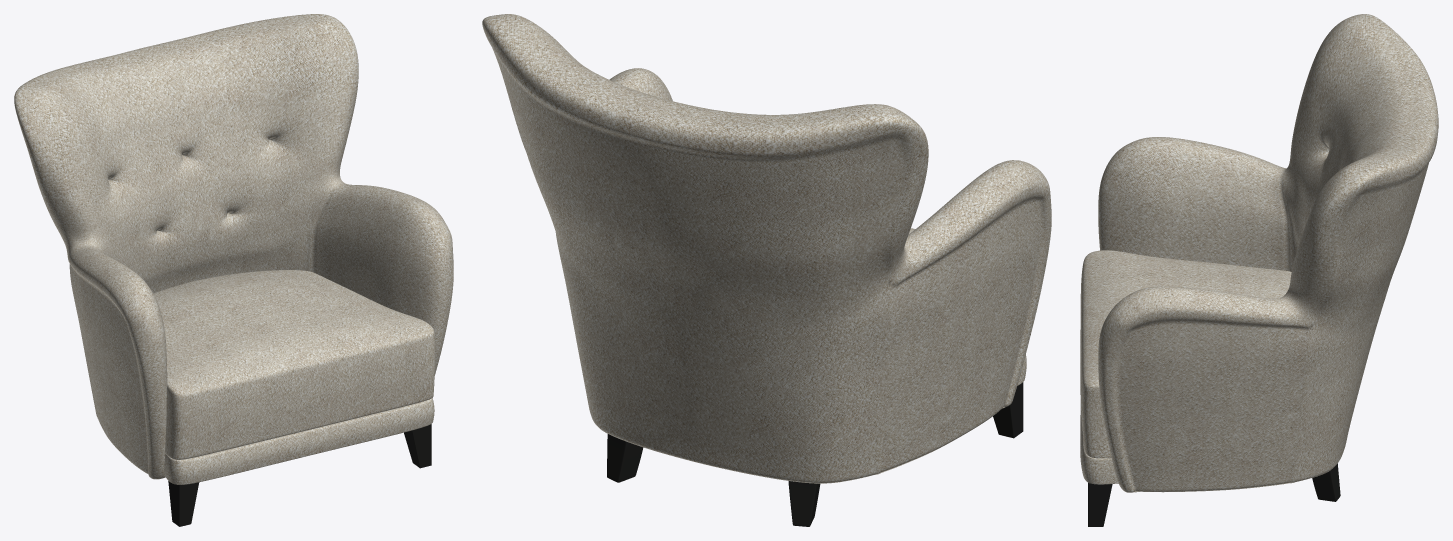
The model's file is Alegre-Armchair-Larforma.glb.
3 renders of one model, left to right at view 1: azimuth 30°, elevation 25°; view 2: azimuth 150°, elevation 25°; view 3: azimuth 270°, elevation 25°, orthographic. The views are drawn at different scales.
Visible parts, largest first — view 1: Alegre-larforma; view 2: Alegre-larforma; view 3: Alegre-larforma.
Part boxes in pixels (x1,y1,x2,y2): Alegre-larforma: (14,14,453,526); Alegre-larforma: (482,14,1051,526); Alegre-larforma: (1080,14,1438,526).
Bounding box in the file's own units: 0.8093 × 0.8079 × 0.7117.
Materials: 2 (1 with a texture image).
